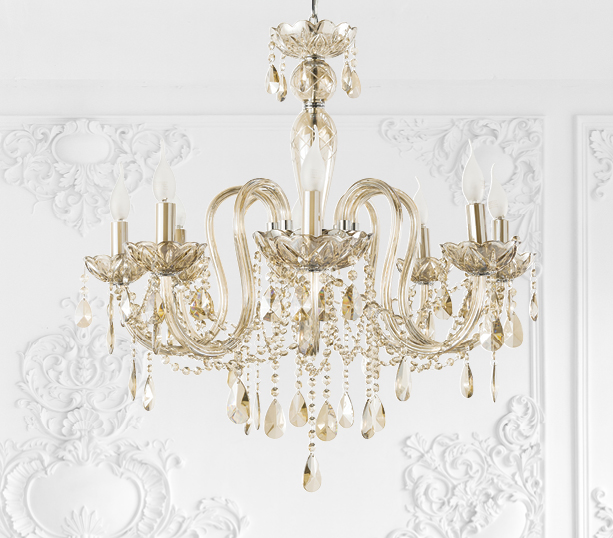chandelier: (79, 7, 556, 501)
